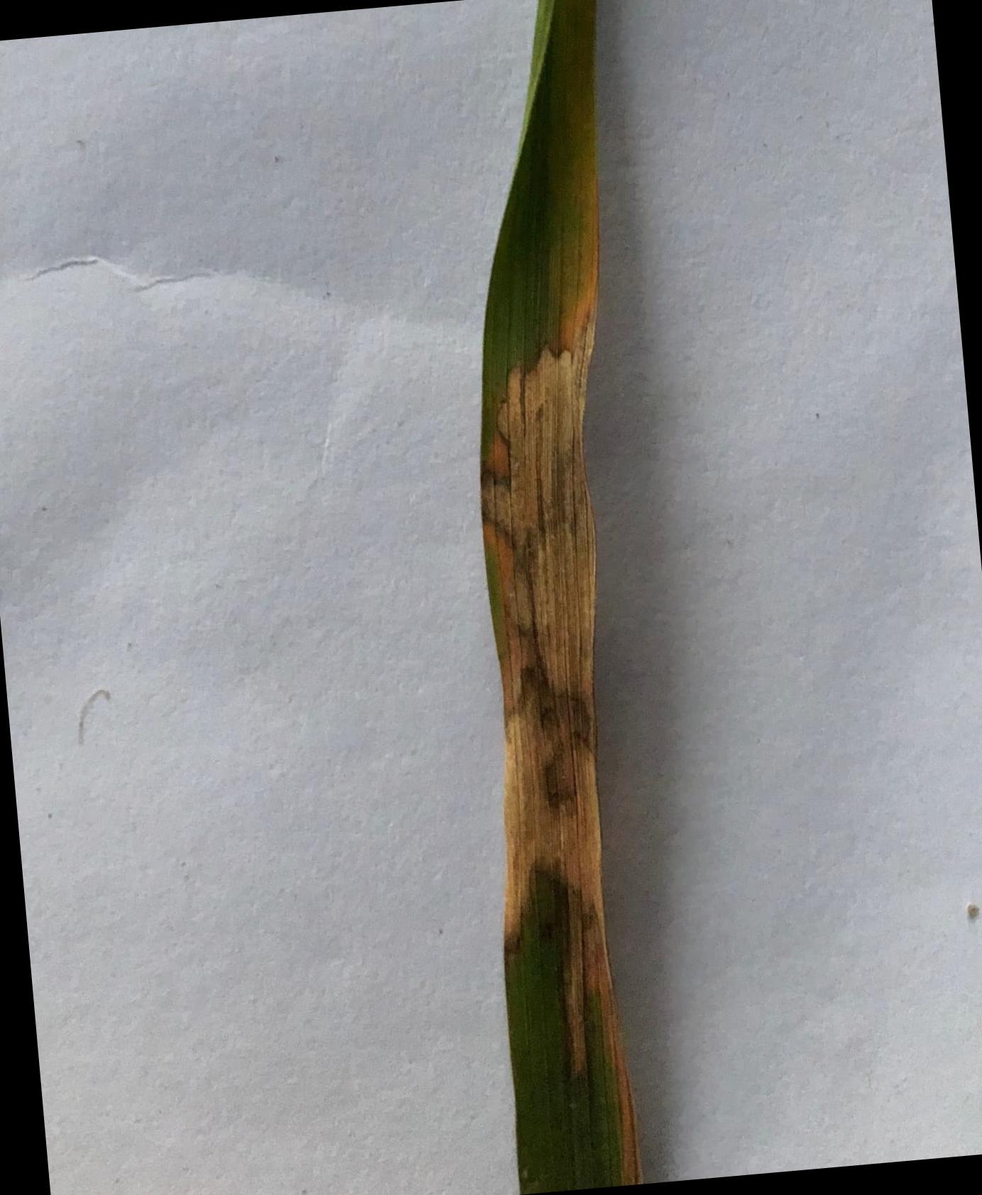Leaf Blight: (478, 281, 645, 1186)
